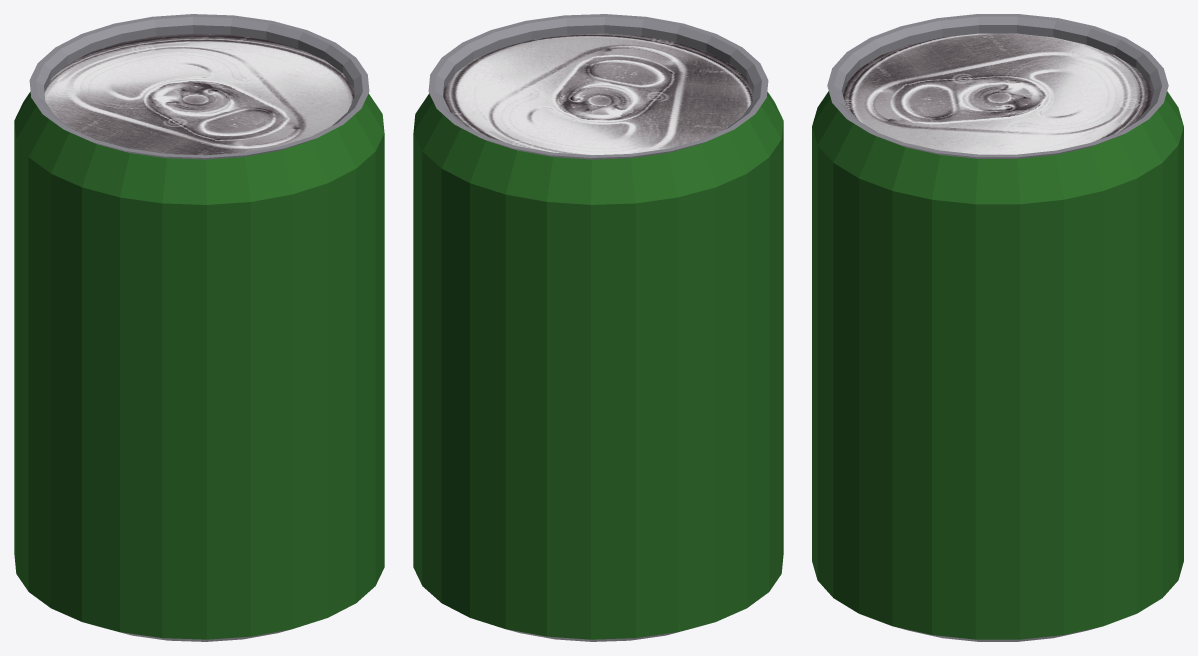
The model's file is SodaCan.fbx.
The picture shows the model from 3 angles, left to right: view 1: azimuth 30°, elevation 25°; view 2: azimuth 150°, elevation 25°; view 3: azimuth 270°, elevation 25°; orthographic projection.
Parts seen in each view (by area): view 1: Soda; view 2: Soda; view 3: Soda.
Part boxes in pixels (x1=…): Soda: x1=14, y1=14, x2=384, y2=641; Soda: x1=413, y1=14, x2=783, y2=641; Soda: x1=812, y1=14, x2=1183, y2=641.
Bounding box in the file's own units: 39.07 × 57.26 × 39.36.
